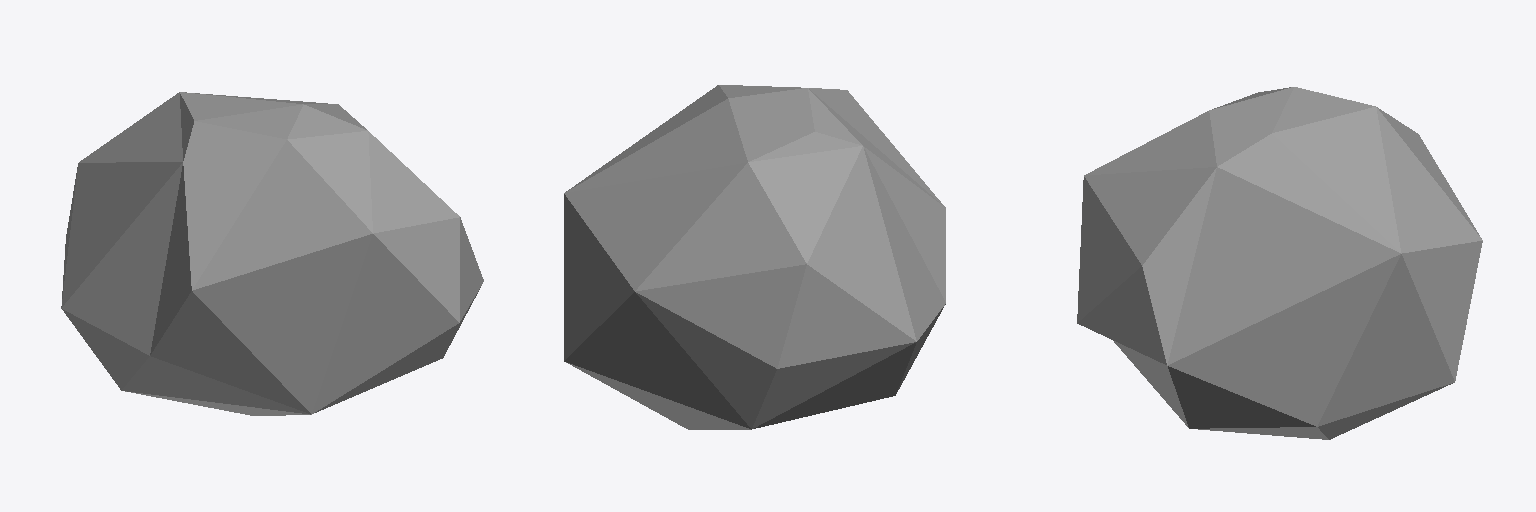
Rendered from Stein4.obj.
3 views of the same model, side by side, from view 1: azimuth 30°, elevation 25°; view 2: azimuth 150°, elevation 25°; view 3: azimuth 270°, elevation 25° (orthographic).
Parts seen in each view (by area): view 1: Sphere; view 2: Sphere; view 3: Sphere.
Part boxes in pixels (bbox=[...]): Sphere: bbox=[61, 92, 483, 415]; Sphere: bbox=[564, 85, 945, 429]; Sphere: bbox=[1077, 87, 1482, 439].
Size of the model in its own units: 4.23 by 3.39 by 4.33.